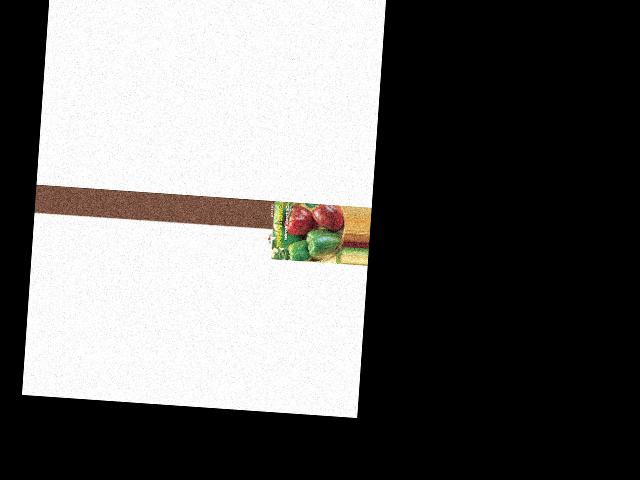bell_pepper: (285, 241, 317, 263)
